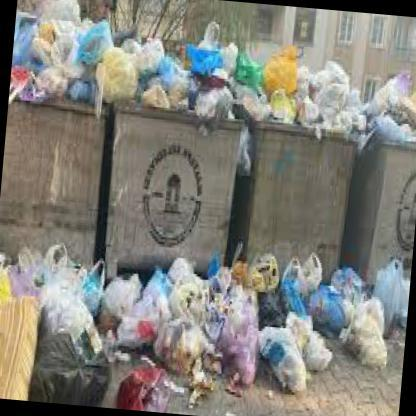Garbage: (0, 247, 358, 415), (11, 19, 404, 128), (135, 299, 255, 415), (204, 261, 282, 340), (20, 274, 98, 351), (112, 345, 198, 413), (240, 44, 314, 103), (340, 307, 390, 384), (260, 316, 304, 395), (85, 42, 141, 102), (171, 28, 231, 79), (26, 22, 76, 70), (316, 55, 356, 114), (368, 266, 402, 334), (129, 32, 169, 86)
